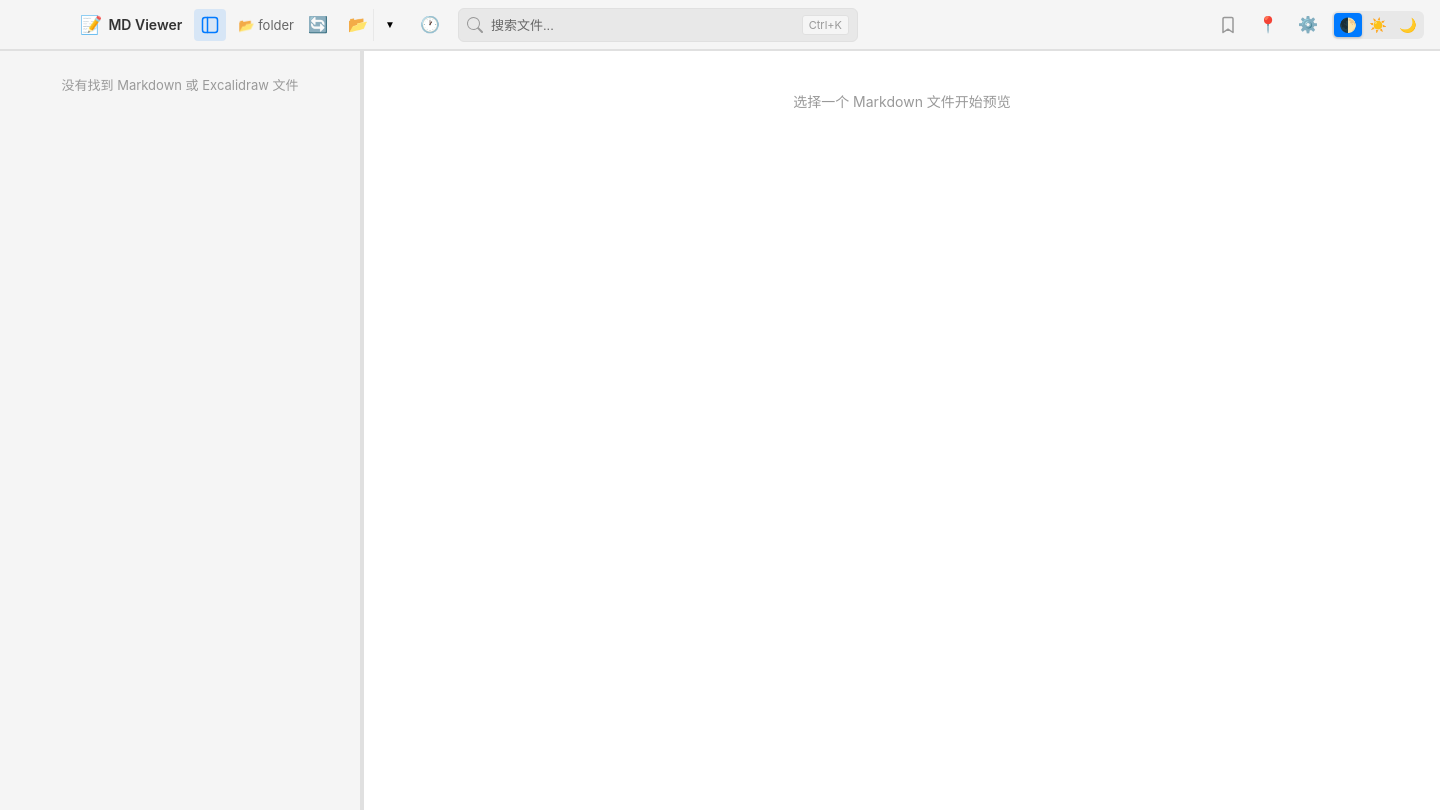
Test: App 集成测试 › 应用初始化 › 可以收起并恢复文件树侧栏且保留展开宽度
expect the element with id "file-tree-panel" is shown: met, box [62,77,298,93]
expect the element with class "resize-handle" is shown: met, box [360,51,364,809]
Click the button named "隐藏文件树" at (210, 24), box [194,8,226,40]
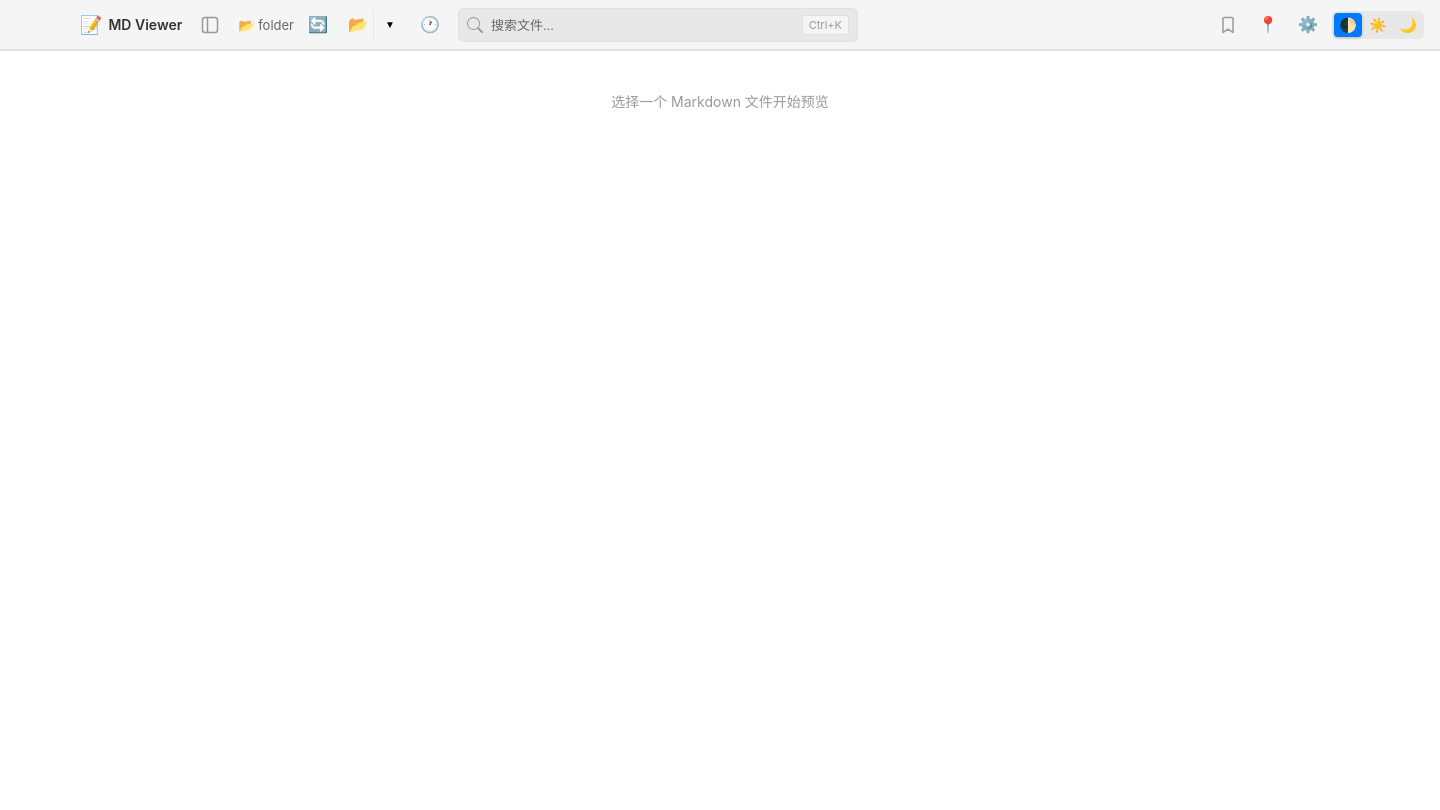
expect the element with class "sidebar" is gone: met
expect the element with id "file-tree-panel" is gone: met
expect the element with class "resize-handle" is gone: met
Click the button named "显示文件树" at (210, 24), box [194,8,226,40]
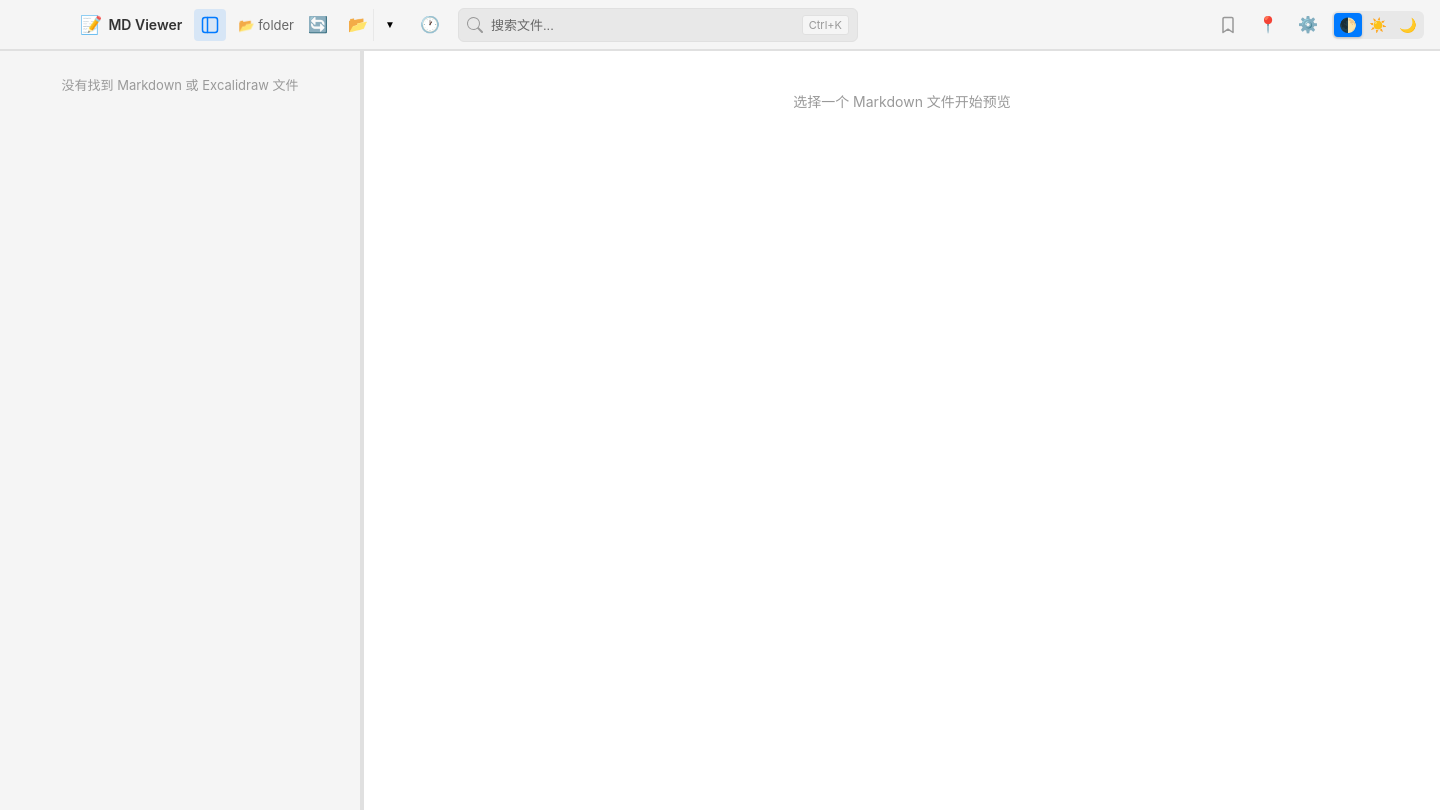
expect the element with class "sidebar" is shown: met, box [0,51,360,809]
